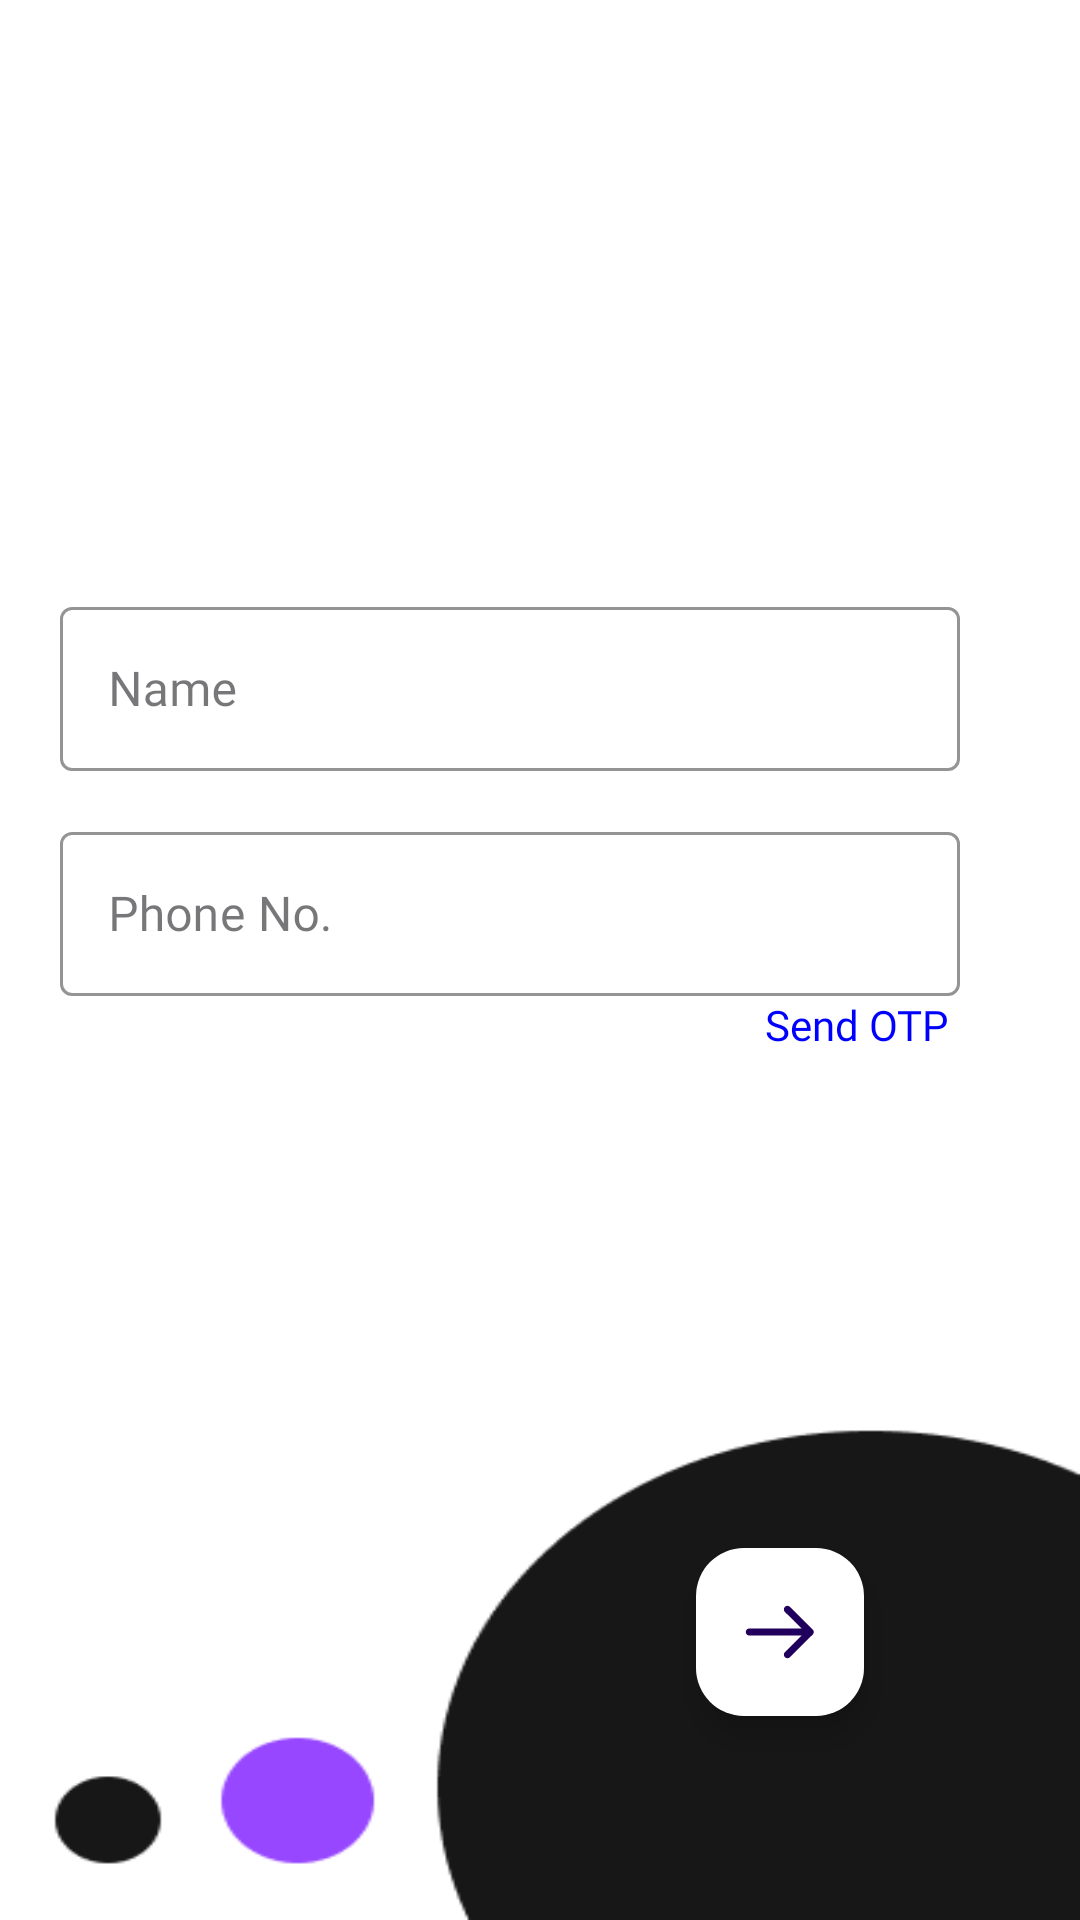

Icon bounding boxes for this 1080px x 1920px phone screenshot, format detection(x1, y1, x2, y2):
arrow: detection(696, 1548, 864, 1716)
